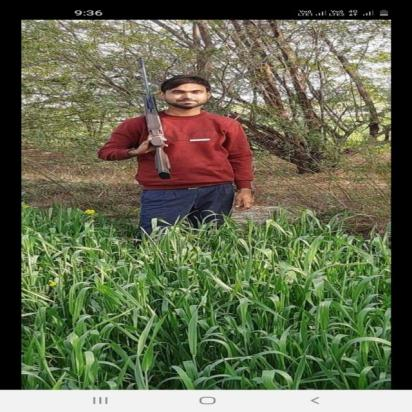Gun: (137, 58, 182, 181)
